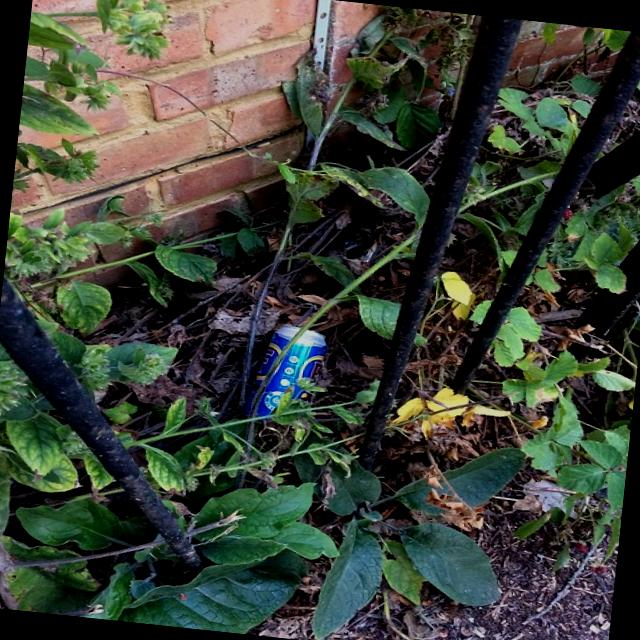Recycle: (241, 318, 330, 428)
